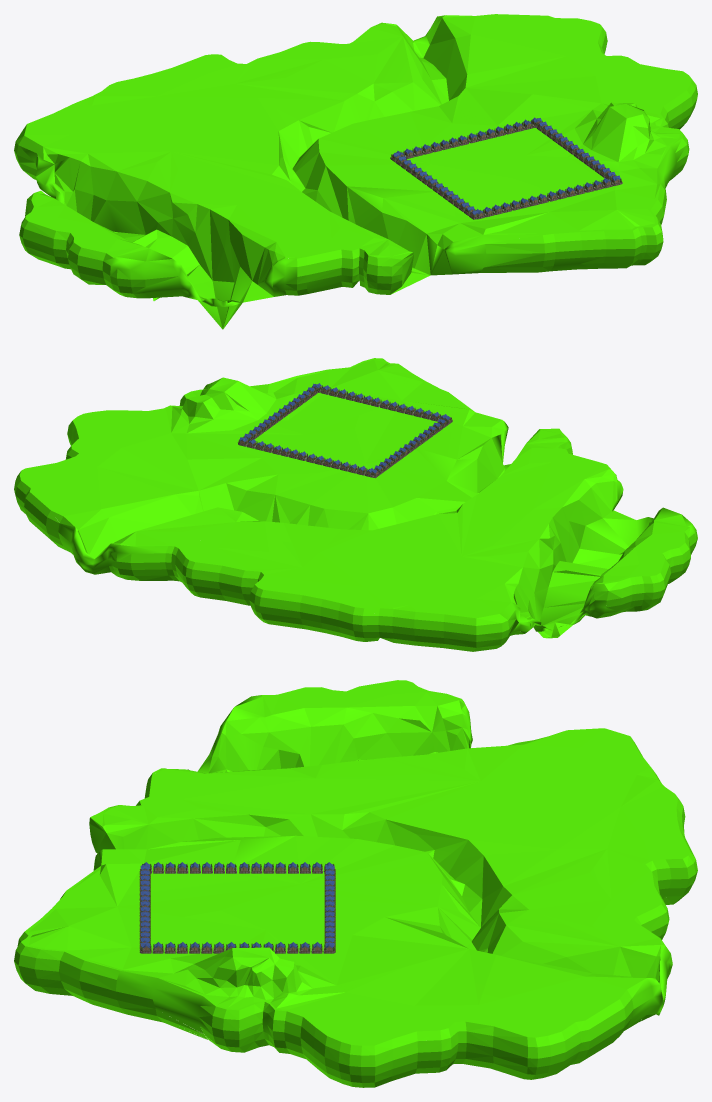
The model's file is fullmap_reference.glb.
The picture shows the model from 3 angles, top to bottom: view 1: azimuth 30°, elevation 25°; view 2: azimuth 150°, elevation 25°; view 3: azimuth 270°, elevation 25°; orthographic projection. The views are drawn at different scales.
Visible parts, largest first — view 1: 0_SM_FloatingIsland_S_5_StaticMeshComponent0; view 2: 0_SM_FloatingIsland_S_5_StaticMeshComponent0; view 3: 0_SM_FloatingIsland_S_5_StaticMeshComponent0.
Boxes of the visible parts, left/top/right/bottom form: 0_SM_FloatingIsland_S_5_StaticMeshComponent0: left=14, top=14, right=697, bottom=329; 0_SM_FloatingIsland_S_5_StaticMeshComponent0: left=14, top=358, right=697, bottom=651; 0_SM_FloatingIsland_S_5_StaticMeshComponent0: left=14, top=680, right=697, bottom=1087.
Bounding box in the file's own units: 527 × 76.1 × 410.
Materials: 2 (1 with a texture image).
